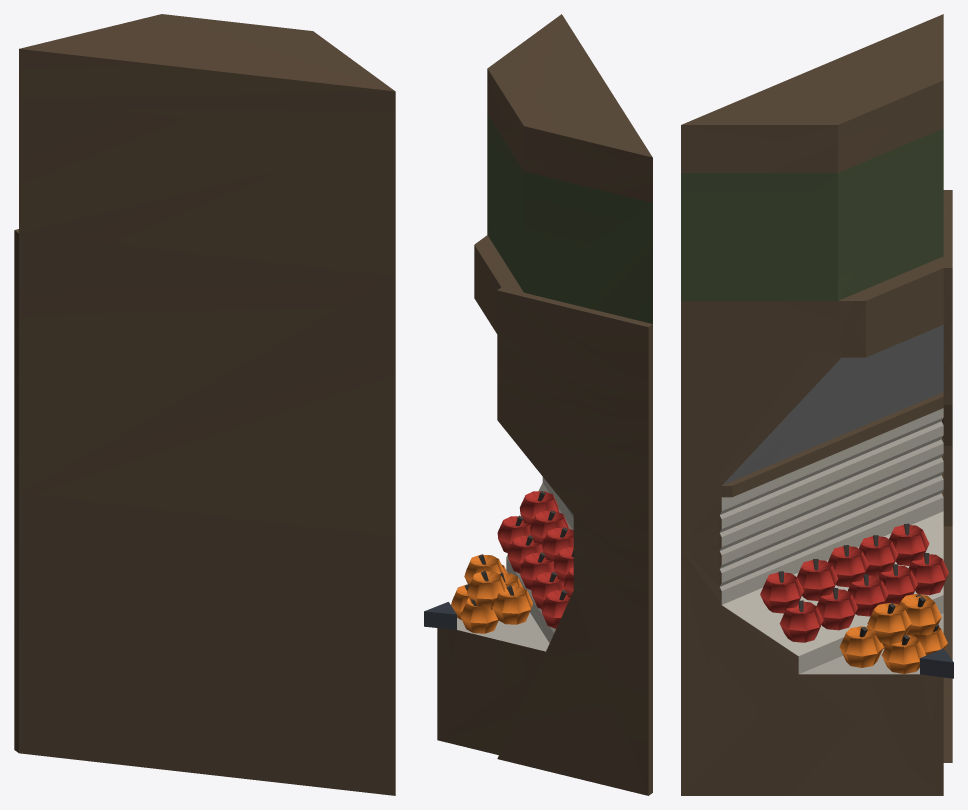
Rendered from SM_fruitShelve_08.glb.
3 views of the same model, side by side, from view 1: azimuth 30°, elevation 25°; view 2: azimuth 150°, elevation 25°; view 3: azimuth 270°, elevation 25° (orthographic). The views are drawn at different scales.
Parts seen in each view (by area): view 1: SM_fruitShelve_08; view 2: SM_fruitShelve_08; view 3: SM_fruitShelve_08.
Boxes of the visible parts, left/top/right/bottom form: SM_fruitShelve_08: left=14, top=14, right=395, bottom=795; SM_fruitShelve_08: left=424, top=14, right=652, bottom=795; SM_fruitShelve_08: left=681, top=14, right=953, bottom=795.
Bounding box in the file's own units: 1.03 × 2.8 × 1.03.
Materials: 2 (1 with a texture image).
